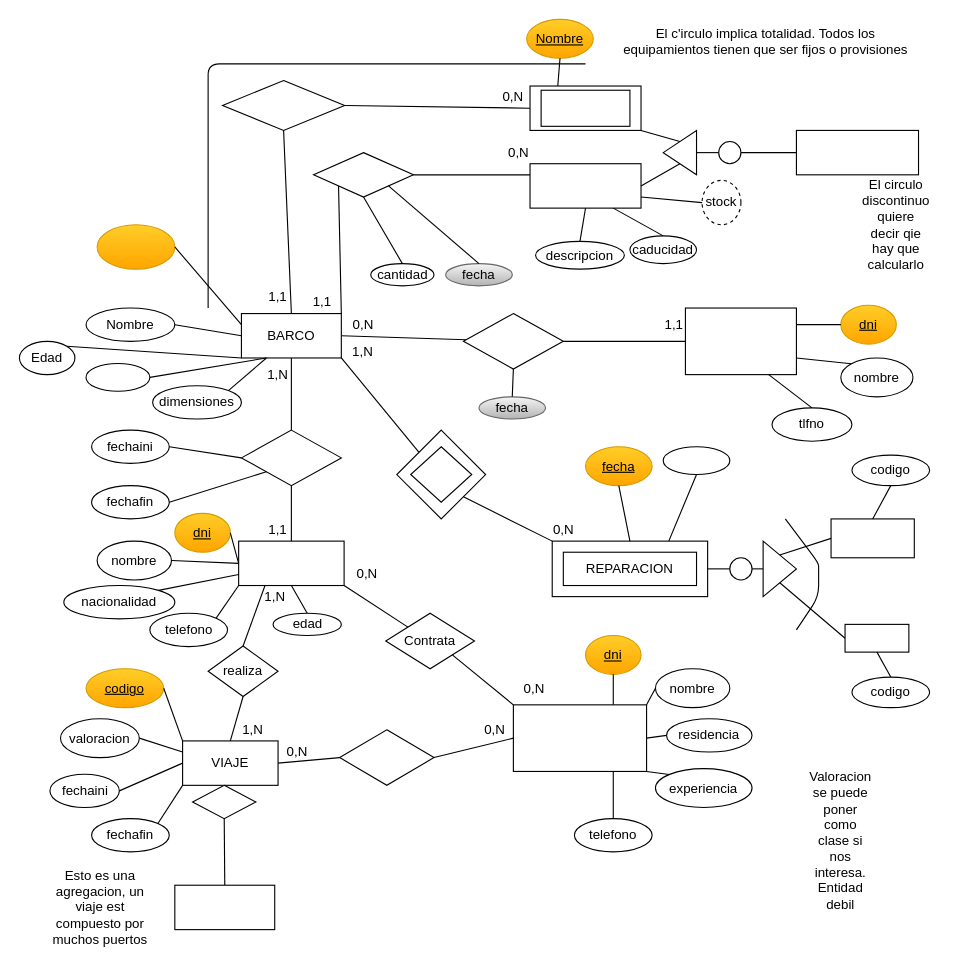
This 957x967 diagram has some shape labels left out. Each missing label, with the box of its shape:
Alquila: (240, 429, 341, 486)
aprovisiona: (312, 152, 413, 197)
AVERIA: (830, 518, 914, 558)
AYUDANTE: (512, 704, 647, 771)
CLIENTE: (238, 540, 344, 586)
coste: (662, 446, 730, 475)
EQUIPAMIENTO: (795, 129, 919, 175)
FIJO: (540, 89, 630, 126)
Gestiona: (462, 312, 563, 369)
hace: (410, 446, 472, 502)
MANTE: (844, 623, 909, 652)
Matricula: (96, 224, 175, 269)
participa: (339, 729, 434, 785)
pertenece: (221, 79, 345, 130)
PROPIETARIOS: (684, 307, 796, 375)
PROVISIONES: (529, 163, 641, 208)
PUERTOS: (174, 884, 275, 930)
Tipo: (85, 362, 150, 391)
